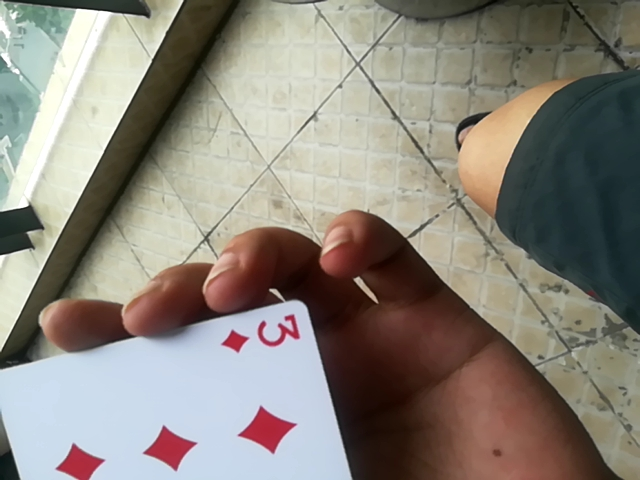fk 3: (3, 295, 366, 480)
